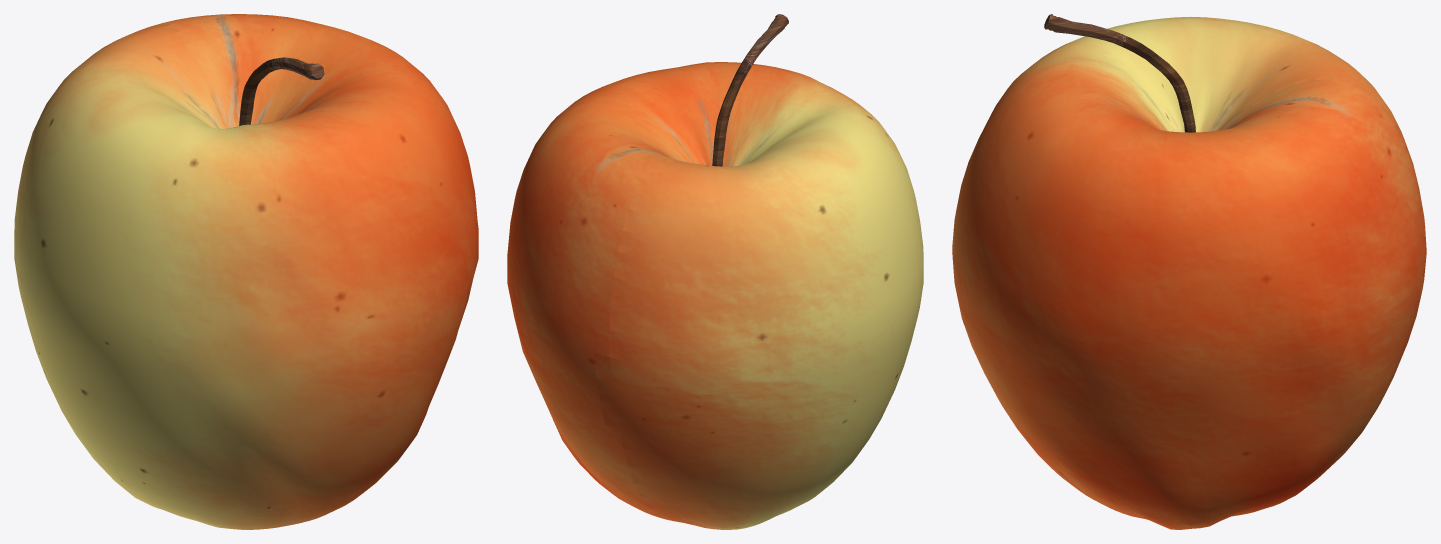
Rendered from apple.obj.
3 renders of one model, left to right at view 1: azimuth 30°, elevation 25°; view 2: azimuth 150°, elevation 25°; view 3: azimuth 270°, elevation 25°, orthographic. The views are drawn at different scales.
Parts seen in each view (by area): view 1: apple_skin, apple_stem; view 2: apple_skin, apple_stem; view 3: apple_skin, apple_stem.
Boxes of the visible parts, bbox=[...] form: apple_skin: bbox=[14, 14, 478, 529]; apple_stem: bbox=[239, 57, 324, 125]; apple_skin: bbox=[507, 62, 923, 529]; apple_stem: bbox=[712, 14, 788, 166]; apple_skin: bbox=[952, 17, 1426, 529]; apple_stem: bbox=[1044, 14, 1195, 132].
Bounding box in the file's own units: 65.38 × 77.56 × 68.95.
2 materials, 2 textured.
